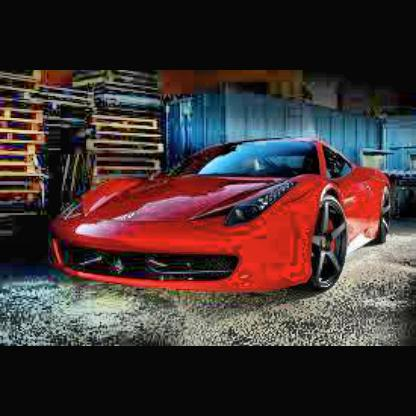Ferrari 458 Italia Coupe 2012: (58, 133, 398, 291)
